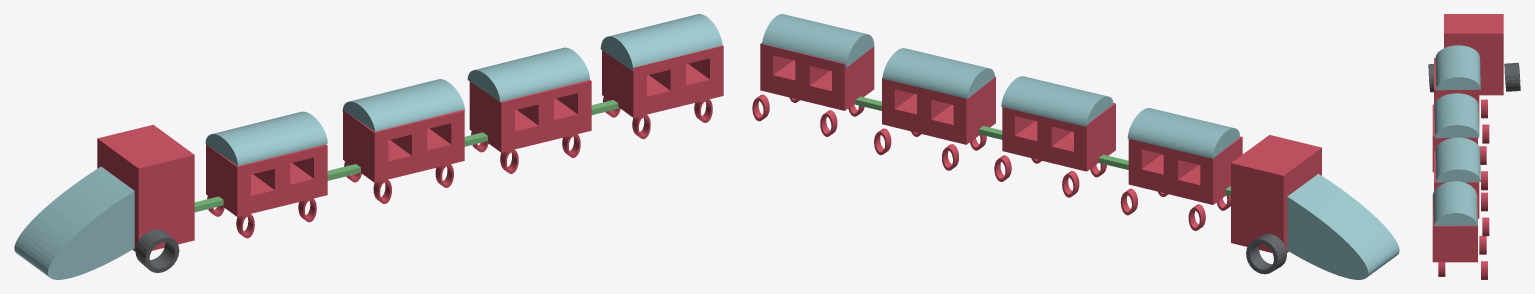
The model's file is Dazzling Lahdi-Turing.glb.
The picture shows the model from 3 angles, left to right: view 1: azimuth 30°, elevation 25°; view 2: azimuth 150°, elevation 25°; view 3: azimuth 270°, elevation 25°; orthographic projection. The views are drawn at different scales.
Visible parts, largest first — view 1: Mesh_Mesh_head_geo.001_lambert2SG.001; view 2: Mesh_Mesh_head_geo.001_lambert2SG.001; view 3: Mesh_Mesh_head_geo.001_lambert2SG.001.
Boxes of the visible parts, x1,y1,x2,y2 form: Mesh_Mesh_head_geo.001_lambert2SG.001: [14, 14, 723, 279]; Mesh_Mesh_head_geo.001_lambert2SG.001: [752, 14, 1399, 279]; Mesh_Mesh_head_geo.001_lambert2SG.001: [1428, 14, 1520, 279].
Bounding box in the file's own units: 391 × 59.32 × 65.
